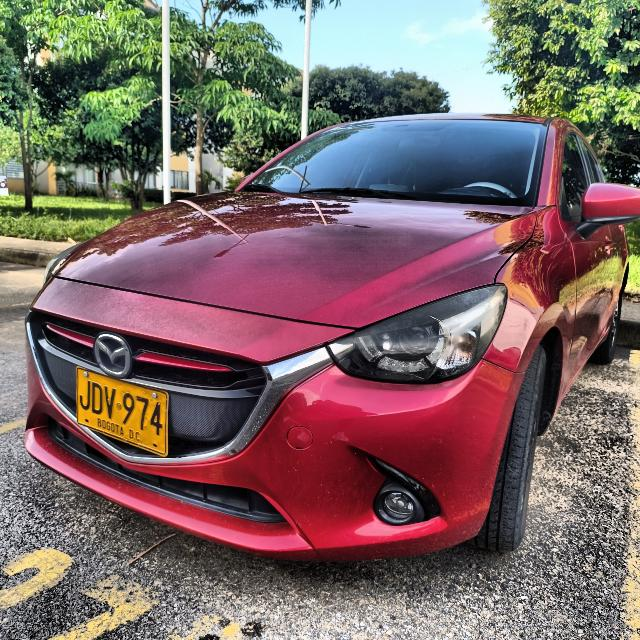plate: (78, 368, 167, 454)
